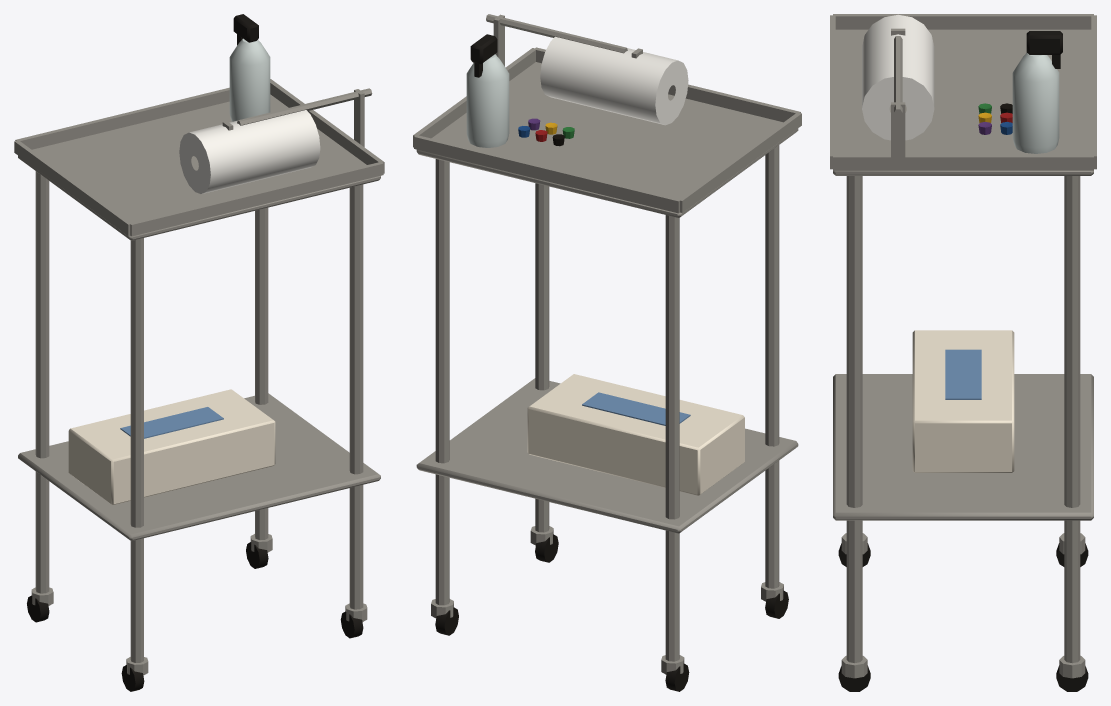
File: ink-station.glb
3 views of the same model, side by side, from view 1: azimuth 30°, elevation 25°; view 2: azimuth 150°, elevation 25°; view 3: azimuth 270°, elevation 25° (orthographic). The views are drawn at different scales.
Parts seen in each view (by area): view 1: station; view 2: station; view 3: station.
Part boxes in pixels (x1=…): station: x1=14, y1=14, x2=384, y2=691; station: x1=413, y1=14, x2=801, y2=691; station: x1=830, y1=14, x2=1096, y2=691.
Bounding box in the file's own units: 0.494 × 0.9789 × 0.368.
